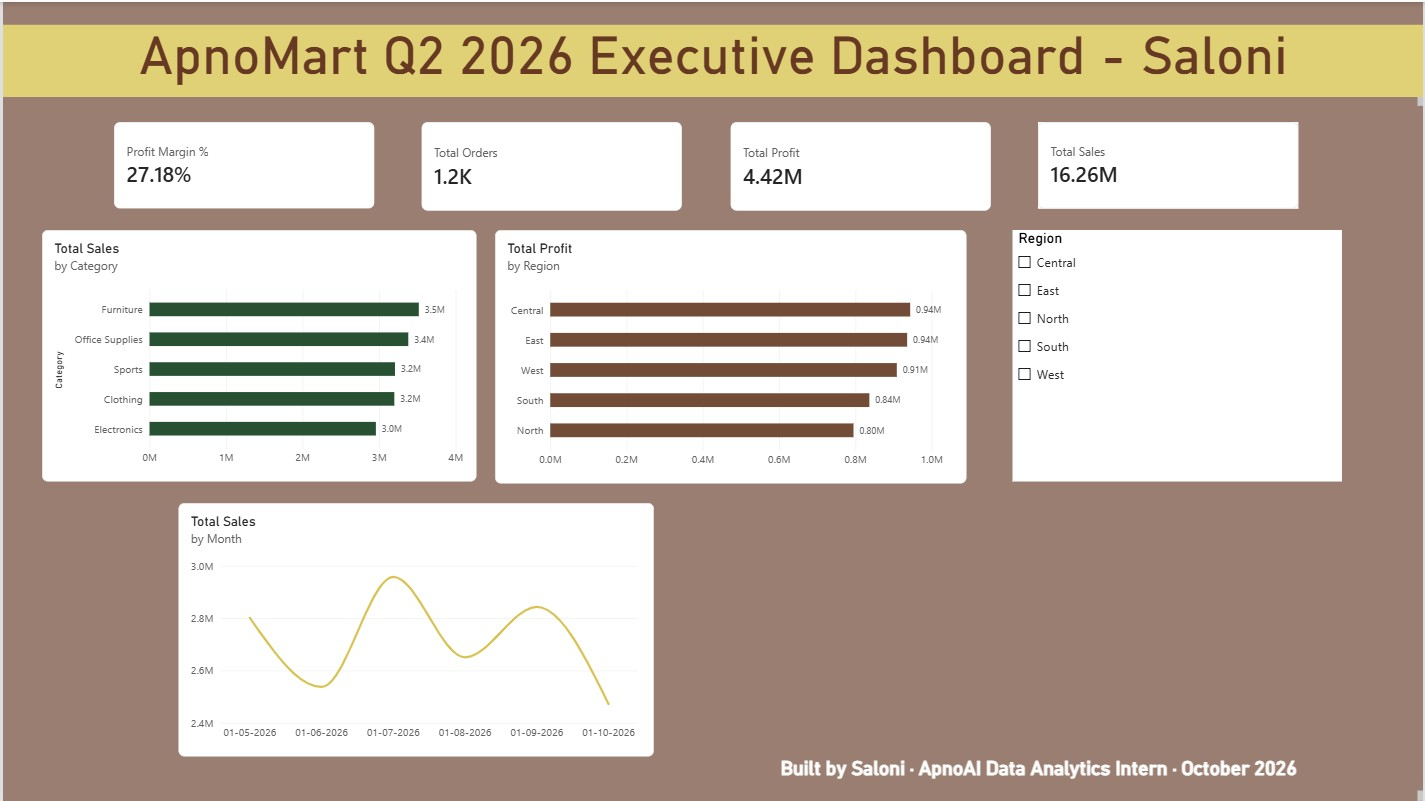

What the dashboard file says about the page in this screenshot:
{"tool":"powerbi","page":{"name":"Page 1","canvas":[1920,1080],"ordinal":0},"visuals":[{"type":"textbox","box":[10,0,280,280],"z":0},{"type":"textbox","title":"ApnoMart Q2 2026 Executive Dashboard - Saloni","box":[0,30,1920,110],"z":1000},{"type":"cardVisual","fields":{"Data":["Sales.Total Sales"]},"box":[1400,162.5,352.5,117.5],"z":2000},{"type":"cardVisual","fields":{"Data":["Sales.Total Profit"]},"box":[983.3,162.5,352.5,120],"z":3000},{"type":"cardVisual","fields":{"Data":["Sales.Total Orders"]},"box":[566.7,162.5,352.5,120],"z":4000},{"type":"cardVisual","fields":{"Data":["Sales.Profit Margin %"]},"box":[150,162.5,352.5,117.5],"z":5000},{"type":"clusteredBarChart","fields":{"Category":["Sales.Category"],"Y":["Sales.Total Sales"]},"box":[52.5,307.5,587.5,340],"z":5001},{"type":"lineChart","fields":{"Category":["Sales.Month.Variation.Date Hierarchy.Year"],"Y":["Sales.Total Sales"]},"box":[237.5,677.5,642.5,342.5],"z":5002},{"type":"clusteredBarChart","fields":{"Category":["Sales.Region"],"Y":["Sales.Total Profit"]},"box":[665,307.5,637.5,342.5],"z":5003},{"type":"slicer","fields":{"Values":["Sales.Region"]},"box":[1365,307.5,445,340],"z":5004},{"type":"textbox","title":"Built by Saloni · ApnoAI Data Analytics Intern · October 2026","box":[880,1020,1040,60],"z":5005}]}

Visuals, with their boxes in screenshot pixels (x1, y1, x2, y2), scaled from the page's 1920x1080 canvas onto the 1425x801 screenshot:
textbox: {"left": 7, "top": 0, "right": 215, "bottom": 208}
"ApnoMart Q2 2026 Executive Dashboard - Saloni" textbox: {"left": 0, "top": 22, "right": 1424, "bottom": 104}
cardVisual - Sales.Total Sales: {"left": 1039, "top": 121, "right": 1301, "bottom": 208}
cardVisual - Sales.Total Profit: {"left": 730, "top": 121, "right": 991, "bottom": 210}
cardVisual - Sales.Total Orders: {"left": 421, "top": 121, "right": 682, "bottom": 210}
cardVisual - Sales.Profit Margin %: {"left": 111, "top": 121, "right": 373, "bottom": 208}
clusteredBarChart - Sales.Category x Sales.Total Sales: {"left": 39, "top": 228, "right": 475, "bottom": 480}
lineChart - Sales.Month.Variation.Date Hierarchy.Year x Sales.Total Sales: {"left": 176, "top": 502, "right": 653, "bottom": 756}
clusteredBarChart - Sales.Region x Sales.Total Profit: {"left": 494, "top": 228, "right": 967, "bottom": 482}
slicer - Sales.Region: {"left": 1013, "top": 228, "right": 1343, "bottom": 480}
"Built by Saloni · ApnoAI Data Analytics Intern · October 2026" textbox: {"left": 653, "top": 756, "right": 1424, "bottom": 800}
